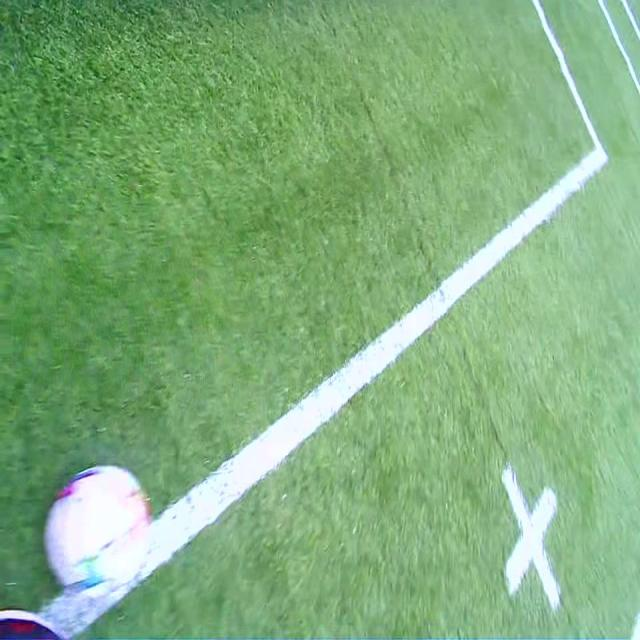ball: (45, 462, 149, 594)
